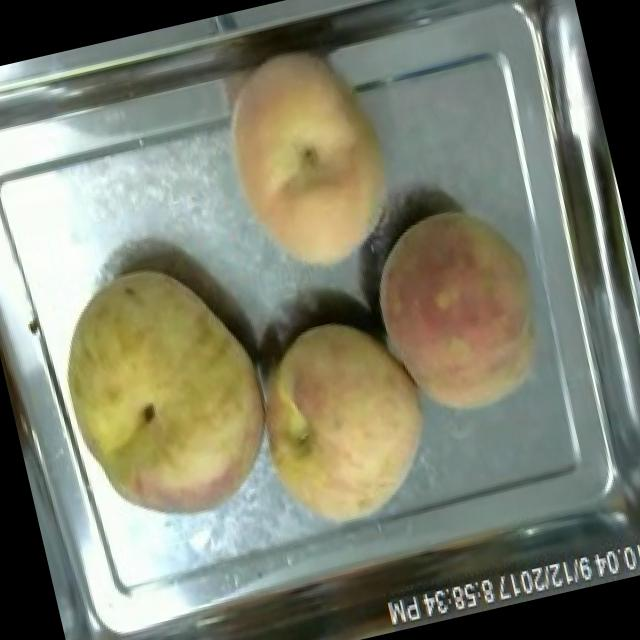Fruit: (33, 238, 298, 548), (195, 25, 418, 294), (230, 297, 454, 548), (352, 188, 566, 434)
